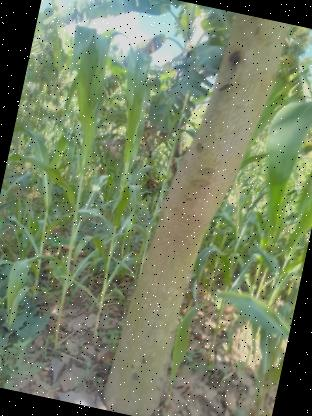tree: (99, 1, 294, 416)
